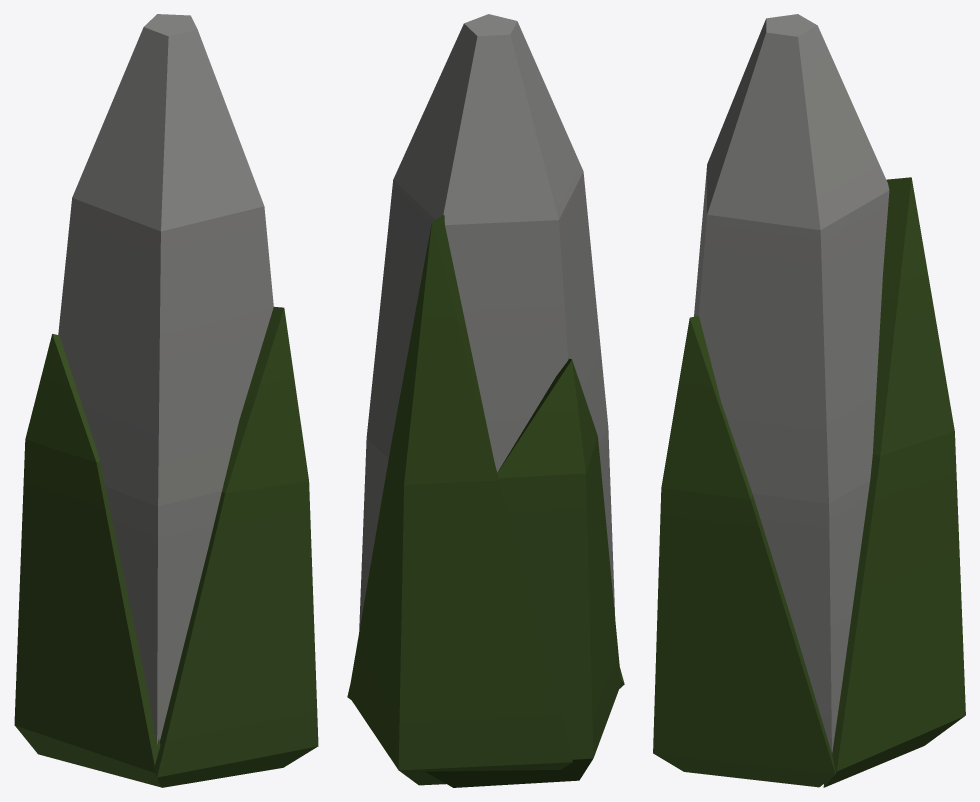
The model's file is Corn_04.fbx.
The picture shows the model from 3 angles, left to right: view 1: azimuth 30°, elevation 25°; view 2: azimuth 150°, elevation 25°; view 3: azimuth 270°, elevation 25°; orthographic projection.
Parts seen in each view (by area): view 1: Corn_04; view 2: Corn_04; view 3: Corn_04.
Part boxes in pixels (x1,y1,x2,y2): Corn_04: [14, 14, 318, 787]; Corn_04: [347, 14, 624, 787]; Corn_04: [653, 14, 965, 787].
Size of the model in its own units: 0.1065 by 0.2898 by 0.1145.
